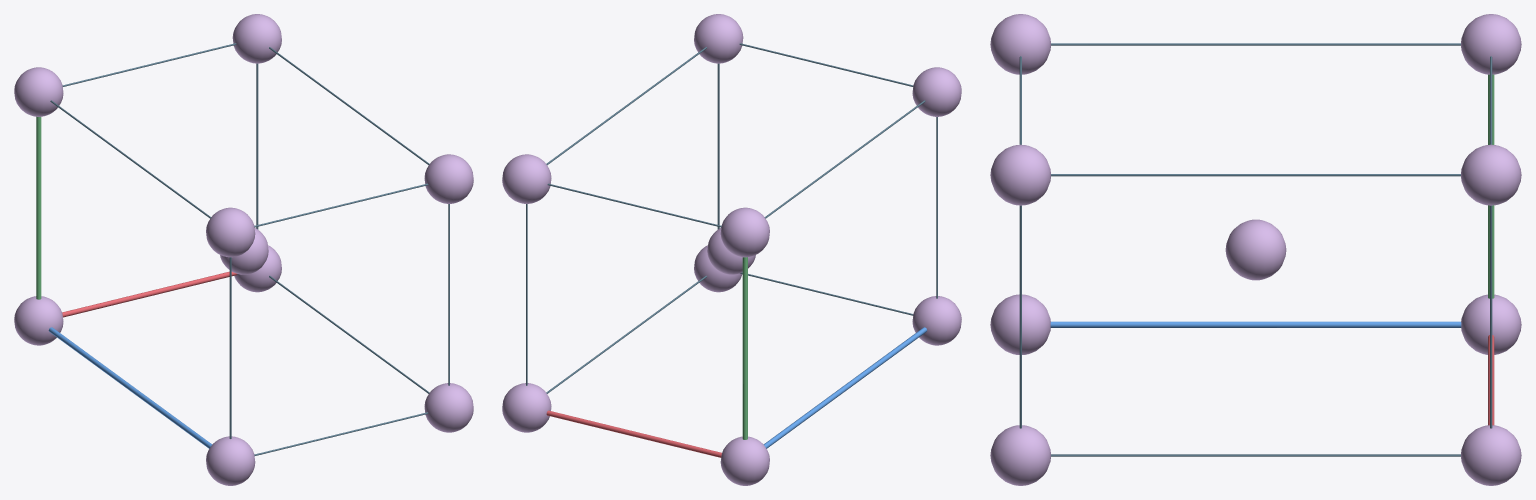
Rendered from nguyen-to-in.glb.
3 views of the same model, side by side, from view 1: azimuth 30°, elevation 25°; view 2: azimuth 150°, elevation 25°; view 3: azimuth 270°, elevation 25° (orthographic). The views are drawn at different scales.
Parts seen in each view (by area): view 1: In · In · 1 (×9), Ô mạng và các trục a, b, c; view 2: In · In · 1 (×9), Ô mạng và các trục a, b, c; view 3: In · In · 1 (×9), Ô mạng và các trục a, b, c.
Boxes of the visible parts, x1,y1,x2,y2 form: In · In · 1 (×9): [14, 14, 473, 485]; Ô mạng và các trục a, b, c: [36, 43, 449, 455]; In · In · 1 (×9): [502, 14, 961, 485]; Ô mạng và các trục a, b, c: [526, 43, 937, 457]; In · In · 1 (×9): [990, 14, 1521, 485]; Ô mạng và các trục a, b, c: [1019, 43, 1494, 456].
Size of the model in its own units: 3.89 by 3.89 by 5.59.
